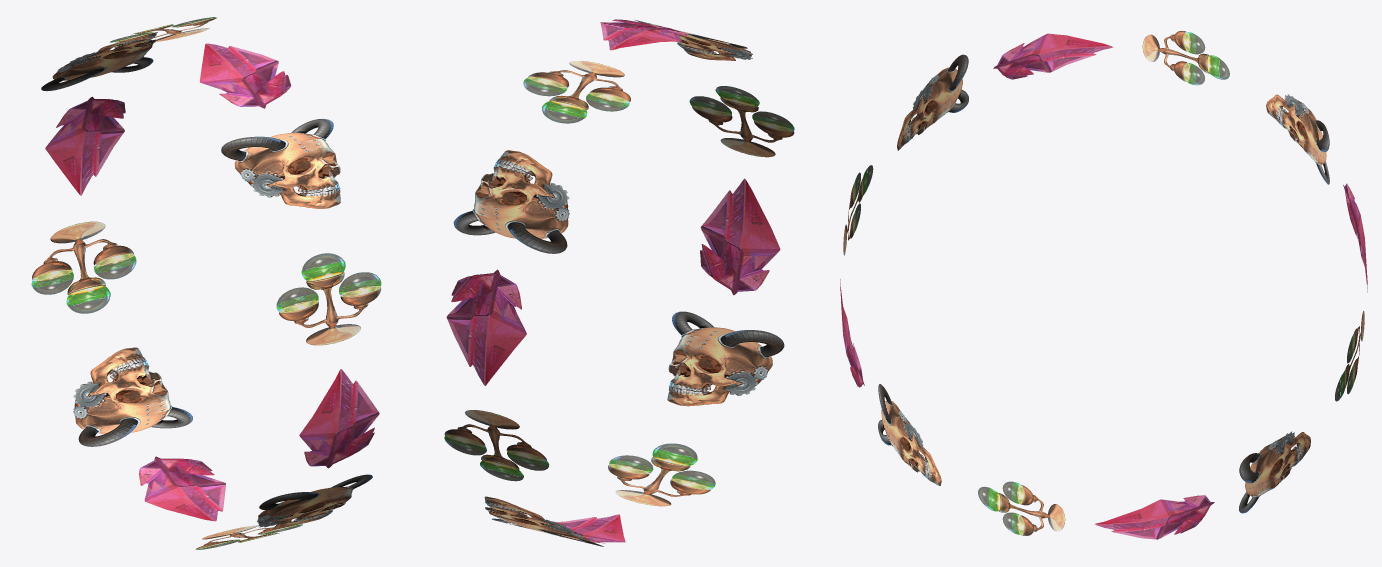
File: Symbol.FBX
The picture shows the model from 3 angles, left to right: view 1: azimuth 30°, elevation 25°; view 2: azimuth 150°, elevation 25°; view 3: azimuth 270°, elevation 25°; orthographic projection.
Visible parts, largest first — view 1: Object010; view 2: Object010; view 3: Object010.
Boxes of the visible parts, left/top/right/bottom form: Object010: left=31, top=17, right=381, bottom=549; Object010: left=444, top=19, right=794, bottom=546; Object010: left=840, top=31, right=1367, bottom=539.
Size of the model in its own units: 6.84 by 24.93 by 24.93.
